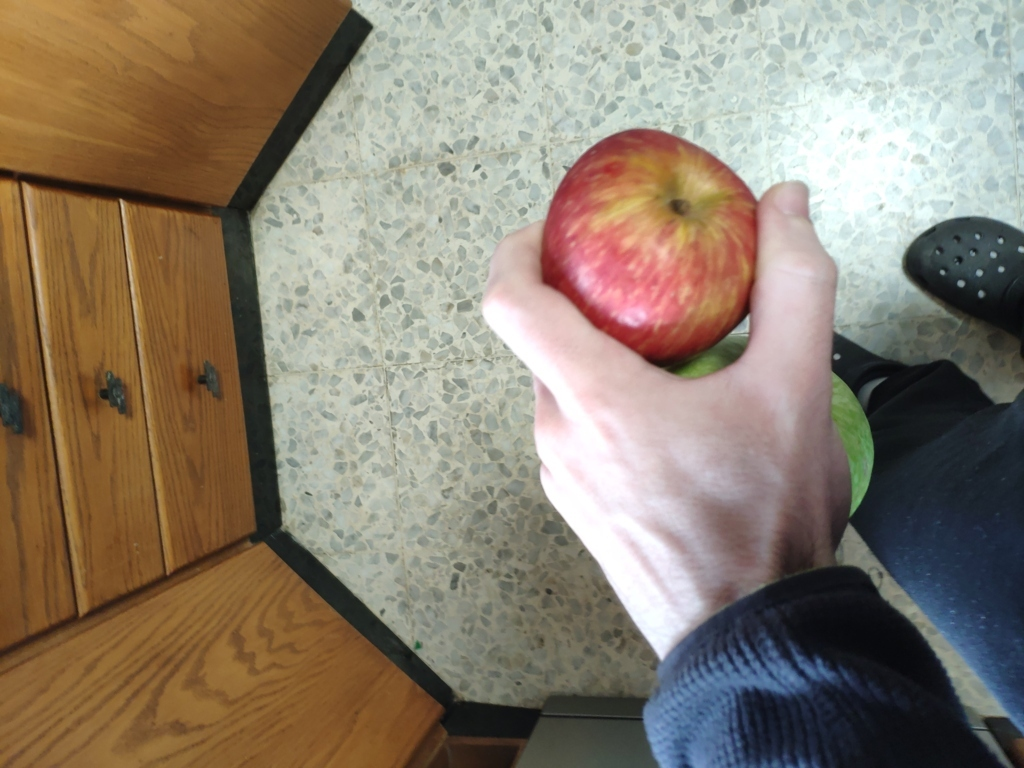Apple: (527, 120, 795, 396)
